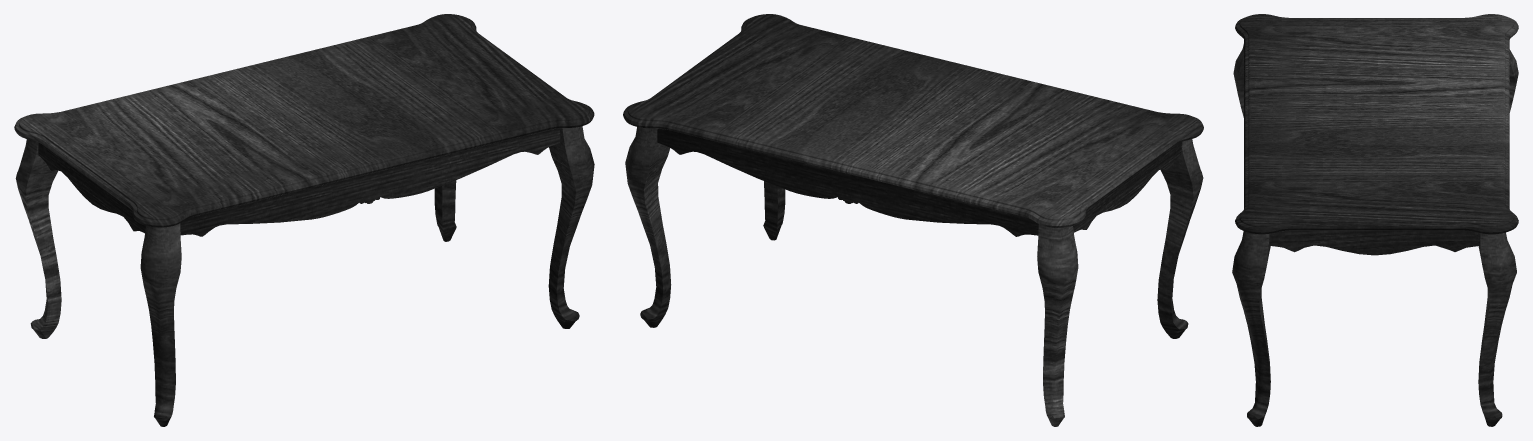
The model's file is europeandiningtable_blackwood.glb.
The picture shows the model from 3 angles, left to right: view 1: azimuth 30°, elevation 25°; view 2: azimuth 150°, elevation 25°; view 3: azimuth 270°, elevation 25°; orthographic projection. The views are drawn at different scales.
Visible parts, largest first — view 1: Silver Table.001; view 2: Silver Table.001; view 3: Silver Table.001.
Boxes of the visible parts, x1,y1,x2,y2 form: Silver Table.001: [14, 14, 594, 426]; Silver Table.001: [623, 14, 1203, 426]; Silver Table.001: [1232, 14, 1518, 426].
Size of the model in its own units: 1.63 by 0.7398 by 0.9136.
1 material, 1 textured.
